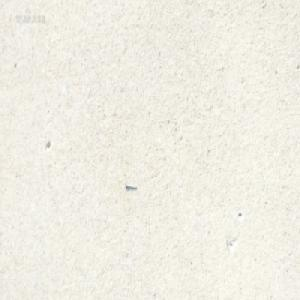Nail: (123, 181, 137, 190)
